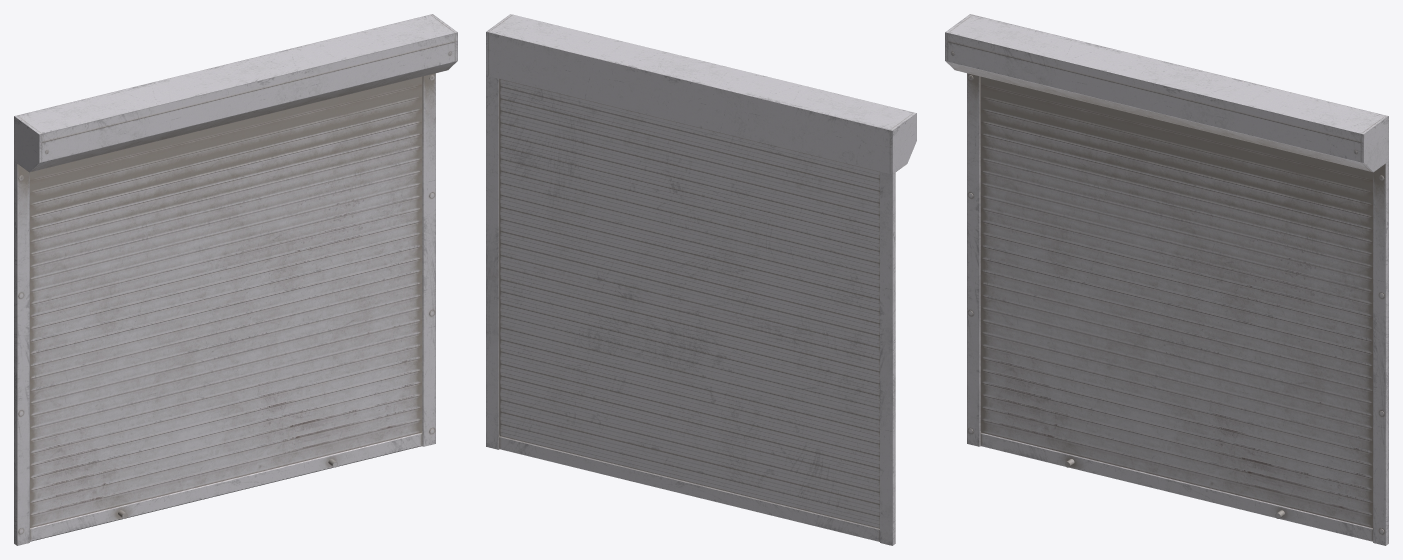
File: counter_shutter.gltf
3 renders of one model, left to right at view 1: azimuth 30°, elevation 25°; view 2: azimuth 150°, elevation 25°; view 3: azimuth 330°, elevation 25°, orthographic. The views are drawn at different scales.
Visible parts, largest first — view 1: counter_shutter; view 2: counter_shutter; view 3: counter_shutter.
Part boxes in pixels (x1,y1,x2,y2): counter_shutter: (14, 14, 457, 545); counter_shutter: (486, 14, 916, 545); counter_shutter: (945, 14, 1388, 545).
Bounding box in the file's own units: 1.6 × 1.56 × 0.1681.
Materials: 1 (1 with a texture image).
